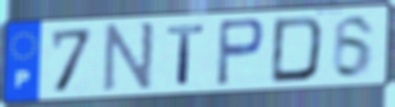6: (329, 14, 377, 79)
7: (49, 25, 96, 96)
D: (267, 14, 327, 85)
N: (99, 19, 158, 94)
P: (214, 16, 268, 89)
T: (164, 22, 207, 87)
